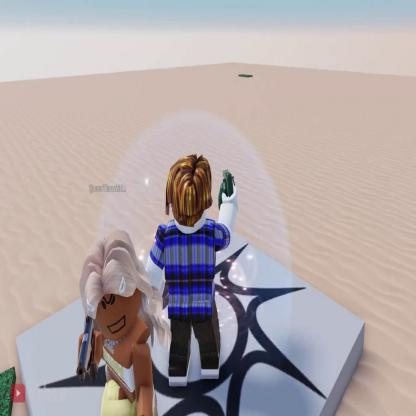Roblox-Avatar: (147, 154, 240, 388), (78, 231, 173, 416)
